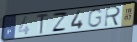4: (70, 10, 85, 30), (17, 15, 31, 36)
G: (86, 8, 104, 29)
R: (103, 5, 122, 28)
T: (36, 13, 50, 35)
Z: (51, 12, 69, 33)
